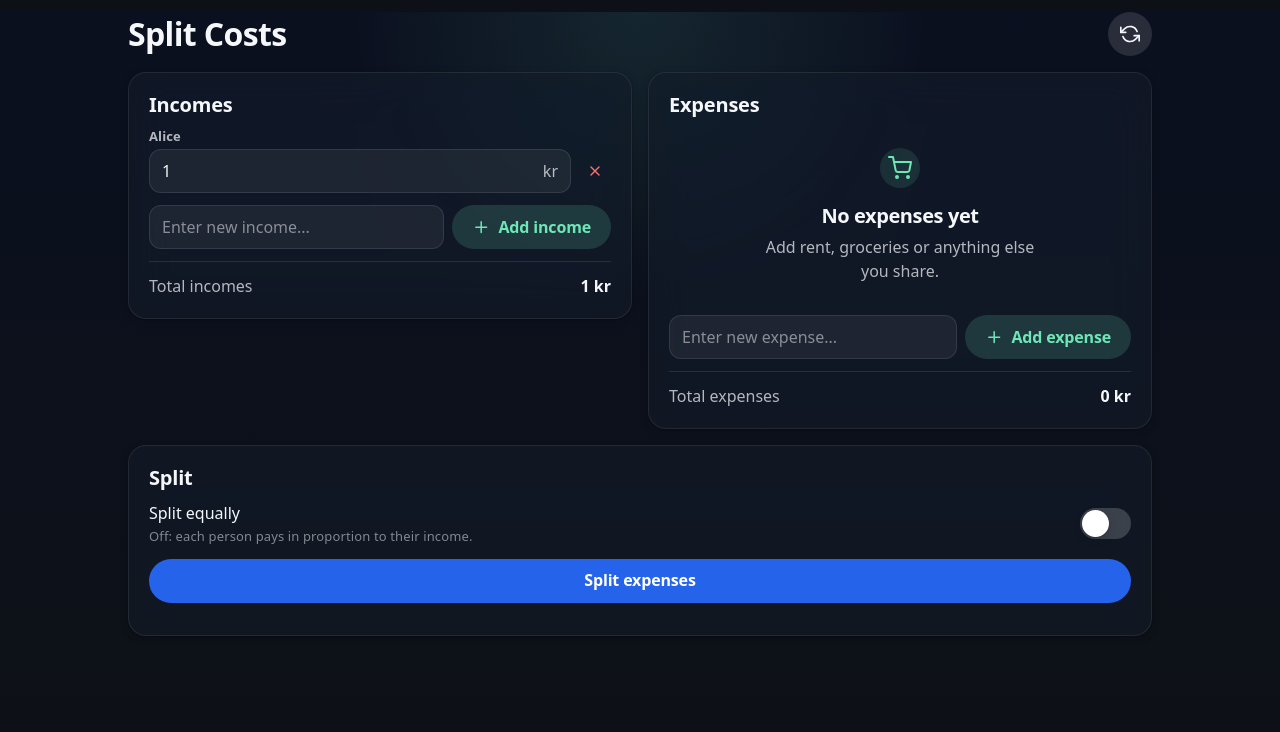
Test: CostCalculator › anonymous, localStorage only › reports when saving to this device fails
Replace the text in the number field named "Income for Alice" with "2". click: (348, 171)
box: [162, 151, 535, 191]
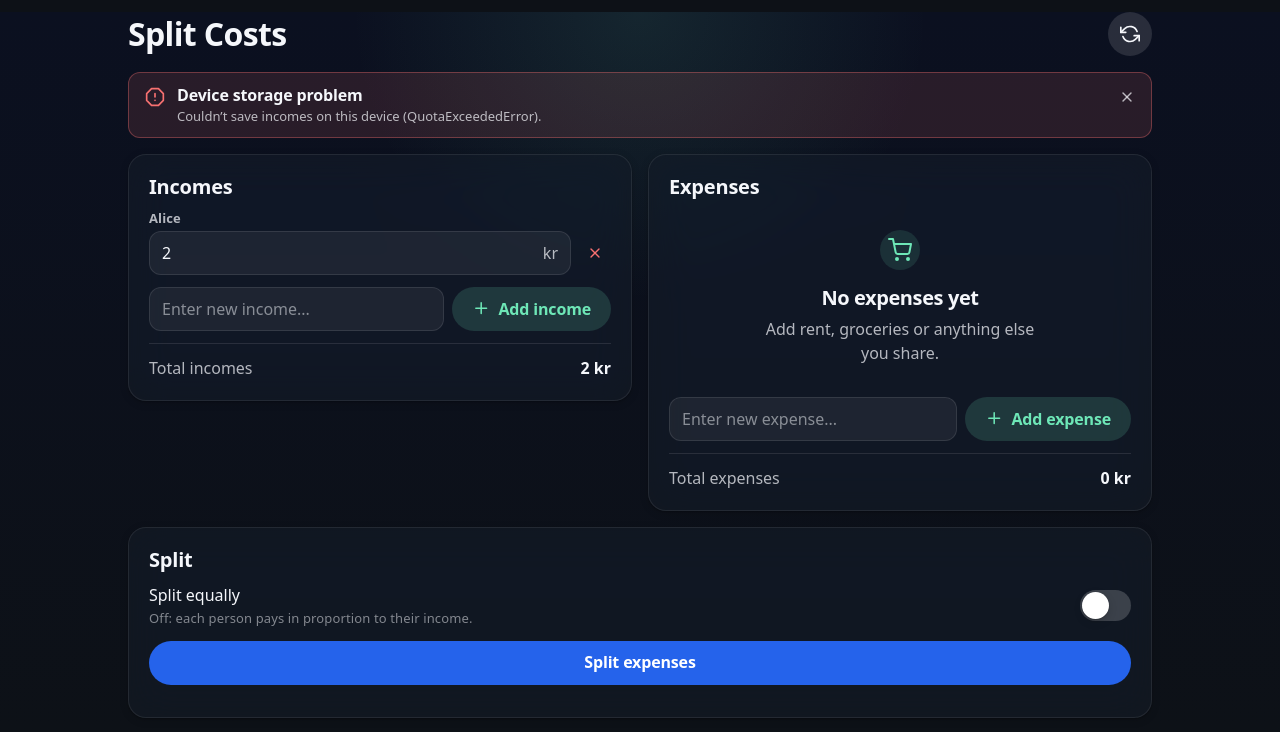
Expected: the message shows "Couldn’t save incomes on this device", [177, 107, 541, 125]
